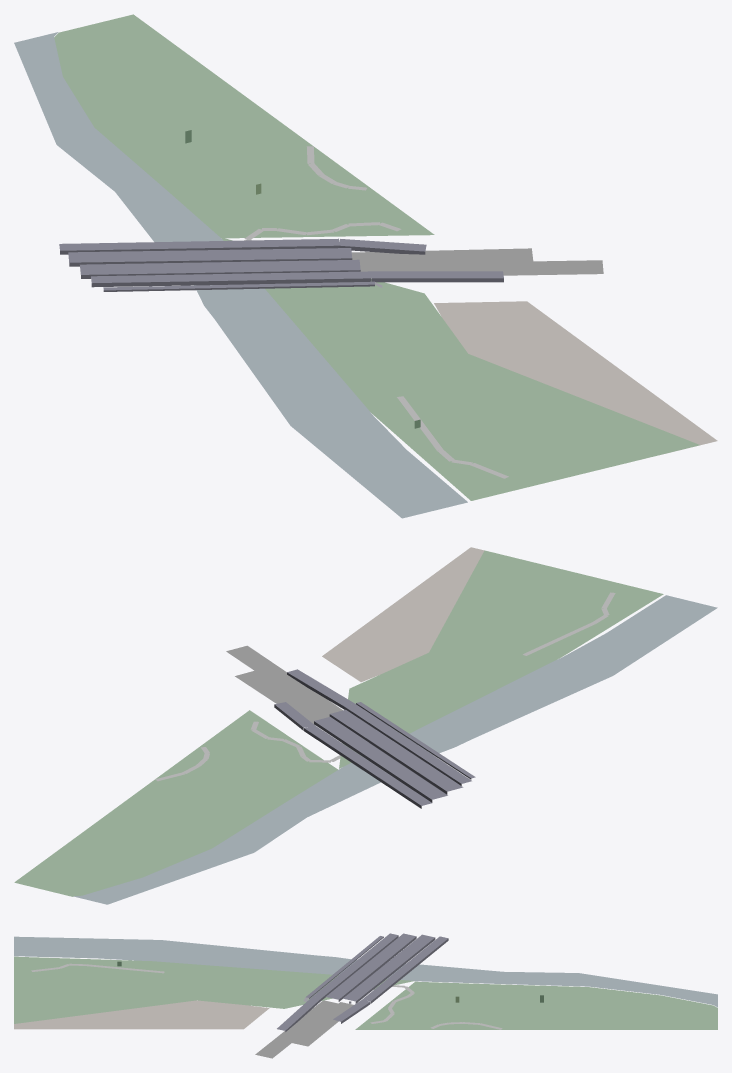
3 views of the same model, one above another, from view 1: azimuth 30°, elevation 25°; view 2: azimuth 150°, elevation 25°; view 3: azimuth 270°, elevation 25° (orthographic). The views are drawn at different scales.
Bounding box in the file's own units: 205 × 6.34 × 500.
